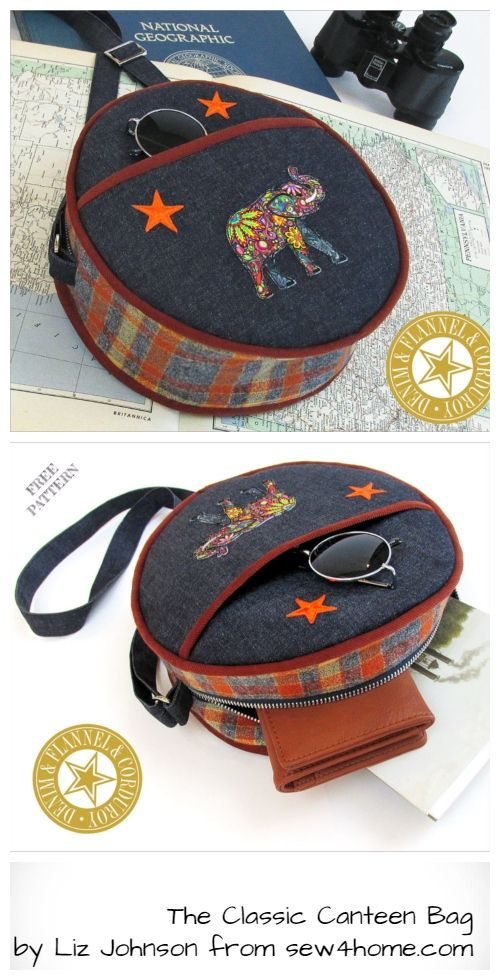cuero: (258, 664, 435, 795)
